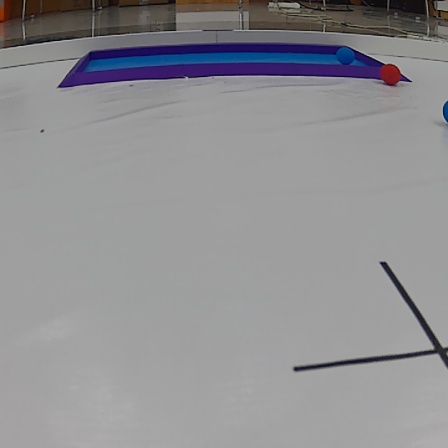blue: (337, 46, 358, 67), (442, 101, 448, 119)
blue_aim: (60, 42, 410, 93)
red: (380, 61, 400, 86)
